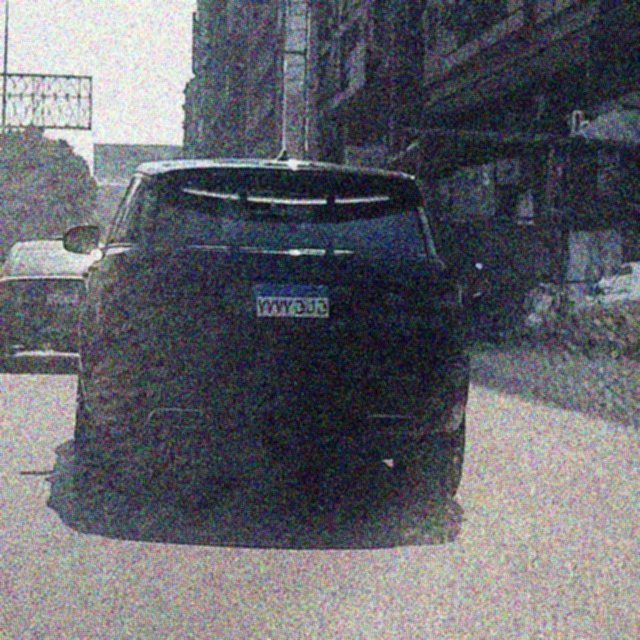License Plate: (253, 283, 333, 317)
